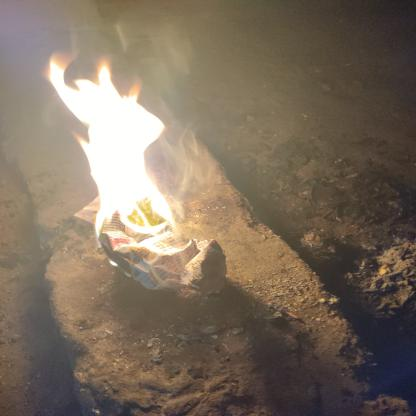Fire: (40, 51, 208, 275)
